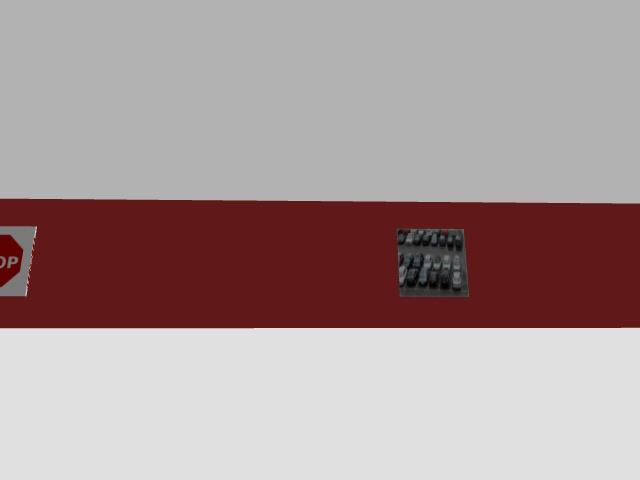vehicle: (418, 266, 429, 286), (451, 271, 462, 290), (406, 268, 418, 285), (440, 270, 450, 288), (412, 252, 423, 268), (429, 270, 439, 287), (399, 266, 407, 285), (442, 255, 452, 270), (453, 255, 462, 271), (402, 254, 412, 268), (422, 230, 431, 245), (423, 254, 432, 268), (433, 255, 441, 270), (413, 232, 422, 245), (455, 233, 462, 249), (447, 233, 454, 248), (405, 232, 413, 244), (431, 233, 437, 246), (398, 233, 405, 244), (426, 229, 433, 239), (439, 234, 445, 245), (398, 252, 403, 265), (425, 229, 432, 237), (432, 229, 440, 236), (401, 229, 409, 236), (450, 229, 459, 234), (441, 229, 448, 235), (418, 230, 424, 235), (397, 229, 401, 235), (409, 229, 416, 232)
